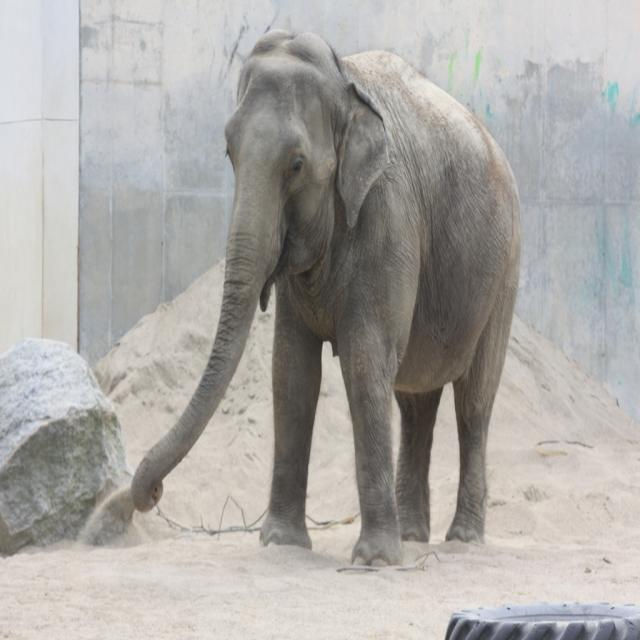Elephant: (132, 24, 522, 572)
